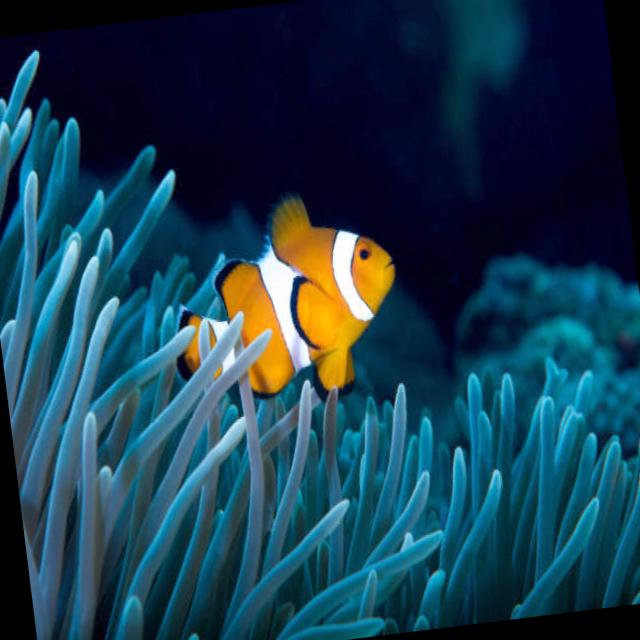ClownFish: (160, 188, 410, 408)
